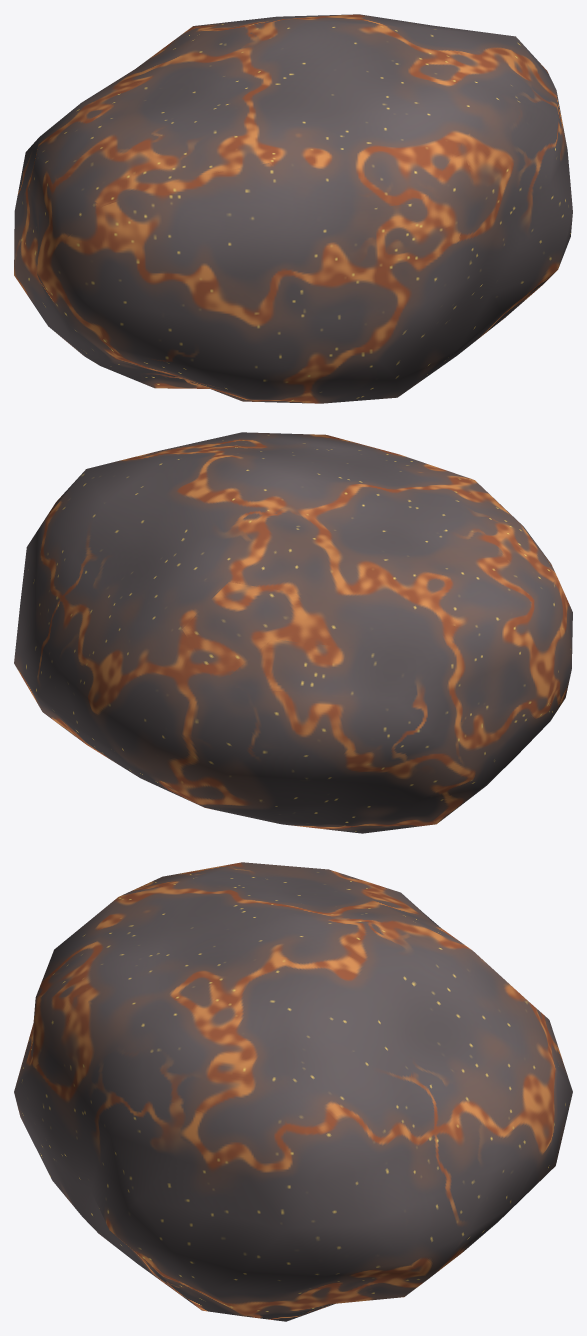
Rendered from ore_vein.glb.
The picture shows the model from 3 angles, top to bottom: view 1: azimuth 30°, elevation 25°; view 2: azimuth 150°, elevation 25°; view 3: azimuth 270°, elevation 25°; orthographic projection. The views are drawn at different scales.
Parts seen in each view (by area): view 1: OreVein; view 2: OreVein; view 3: OreVein.
Part boxes in pixels (x1,y1,x2,y2): OreVein: [14, 14, 572, 403]; OreVein: [14, 432, 572, 833]; OreVein: [14, 862, 572, 1321].
Size of the model in its own units: 2.11 by 1.28 by 1.83.
Materials: 1 (1 with a texture image).
